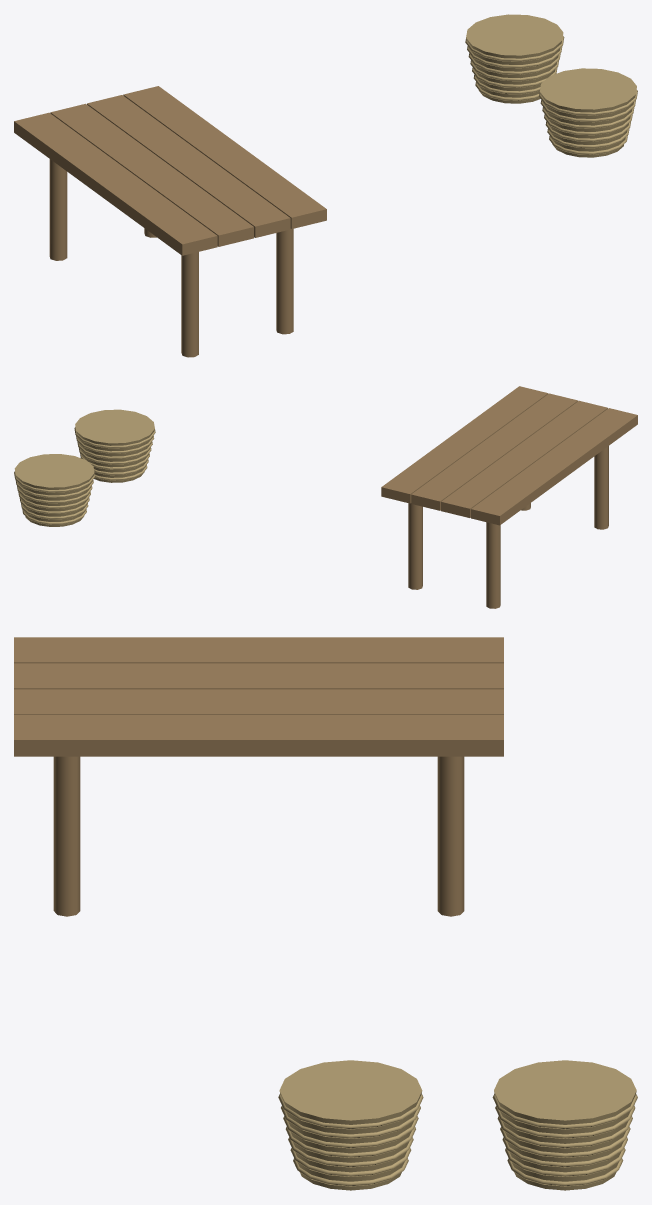
The picture shows the model from 3 angles, top to bottom: view 1: azimuth 30°, elevation 25°; view 2: azimuth 150°, elevation 25°; view 3: azimuth 270°, elevation 25°; orthographic projection. The views are drawn at different scales.
Visible parts, largest first — view 1: Mesh_weathered-timber, Mesh_woven-fibre; view 2: Mesh_weathered-timber, Mesh_woven-fibre; view 3: Mesh_weathered-timber, Mesh_woven-fibre.
Boxes of the visible parts, x1=… form: Mesh_weathered-timber: x1=14, y1=86, x2=326, y2=357; Mesh_woven-fibre: x1=465, y1=14, x2=637, y2=157; Mesh_weathered-timber: x1=381, y1=386, x2=637, y2=608; Mesh_woven-fibre: x1=14, y1=409, x2=155, y2=526; Mesh_weathered-timber: x1=14, y1=637, x2=503, y2=916; Mesh_woven-fibre: x1=278, y1=1060, x2=637, y2=1190.
Bounding box in the file's own units: 4.65 × 1.02 × 3.06.
